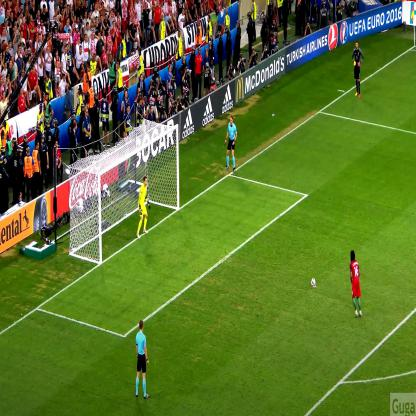penalty kick: (61, 113, 370, 312)
